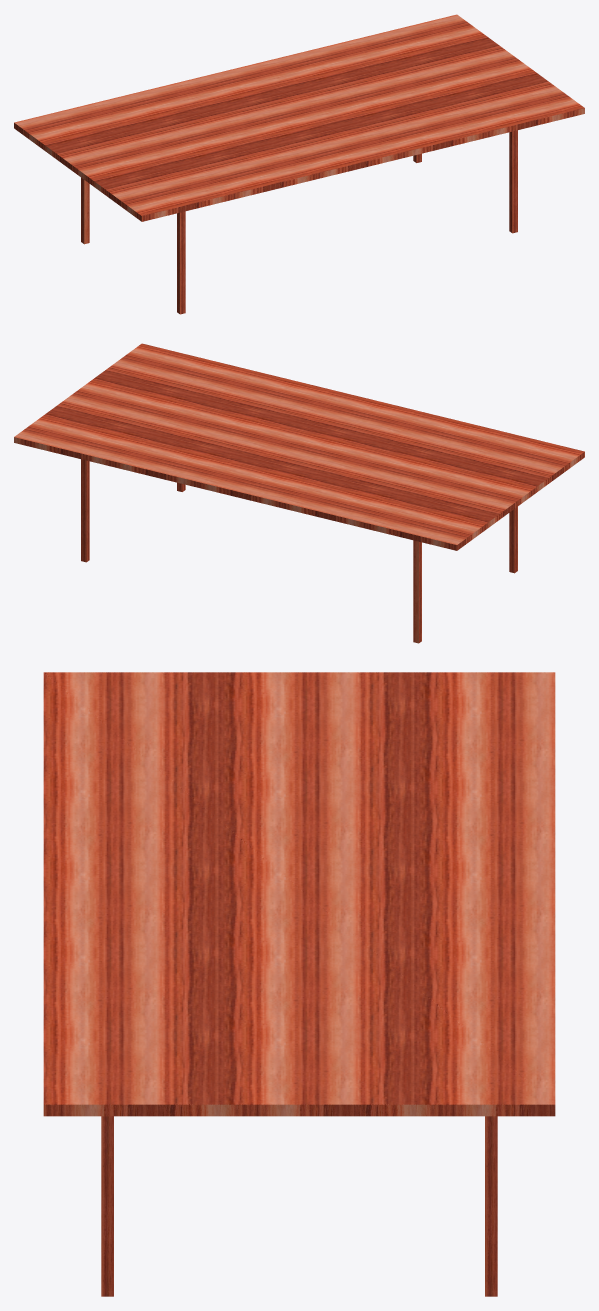
Rendered from table.dae.
3 views of the same model, one above another, from view 1: azimuth 30°, elevation 25°; view 2: azimuth 150°, elevation 25°; view 3: azimuth 270°, elevation 25° (orthographic). The views are drawn at different scales.
Parts seen in each view (by area): view 1: FBXASC195FBXASC141FBXASC194FBXASC185FBXASC195FBXASC140FBXASC; view 2: FBXASC195FBXASC141FBXASC194FBXASC185FBXASC195FBXASC140FBXASC; view 3: FBXASC195FBXASC141FBXASC194FBXASC185FBXASC195FBXASC140FBXASC.
Boxes of the visible parts, bbox=[...] form: FBXASC195FBXASC141FBXASC194FBXASC185FBXASC195FBXASC140FBXASC: bbox=[14, 14, 584, 314]; FBXASC195FBXASC141FBXASC194FBXASC185FBXASC195FBXASC140FBXASC: bbox=[14, 343, 584, 643]; FBXASC195FBXASC141FBXASC194FBXASC185FBXASC195FBXASC140FBXASC: bbox=[43, 672, 555, 1296].
Bounding box in the file's own units: 4000 × 1050 × 2000.
Materials: 1 (1 with a texture image).
